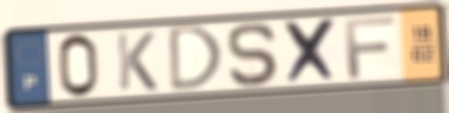0: (55, 31, 101, 99)
D: (168, 23, 226, 95)
F: (341, 14, 398, 81)
K: (113, 30, 161, 93)
S: (225, 20, 284, 88)
X: (281, 16, 341, 87)
